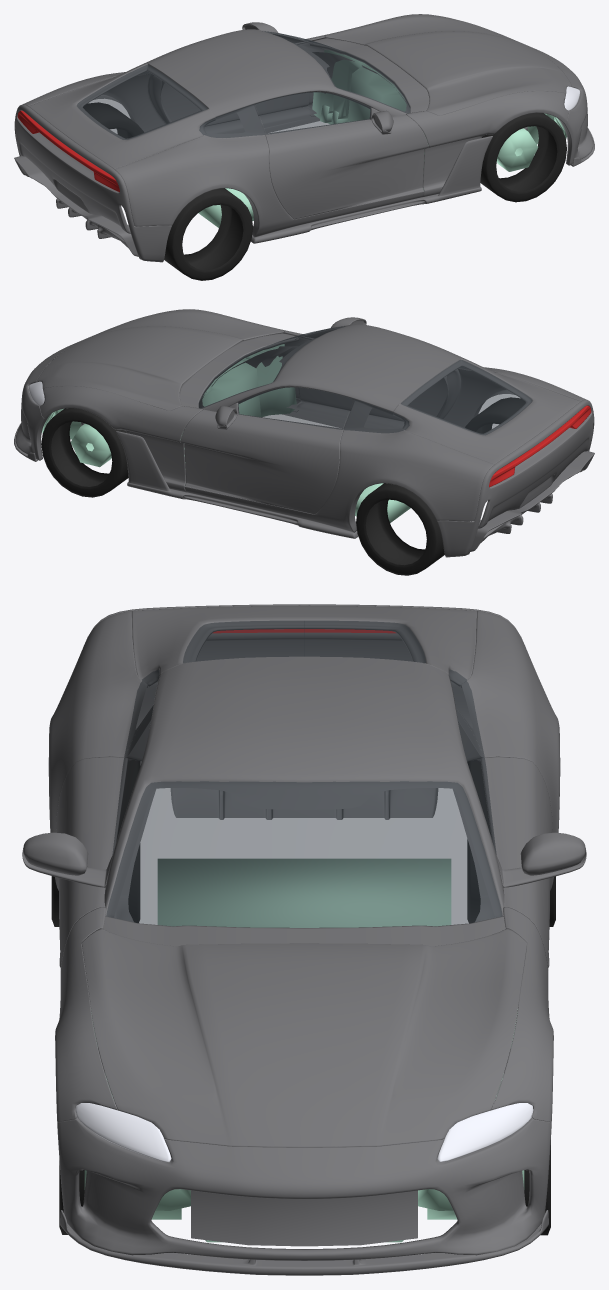
Rendered from coupe.glb.
3 views of the same model, one above another, from view 1: azimuth 30°, elevation 25°; view 2: azimuth 150°, elevation 25°; view 3: azimuth 270°, elevation 25° (orthographic). The views are drawn at different scales.
Visible parts, largest first — view 1: body.001|car-body, hood.001, door.r.001, trunk.001|car-body, rear-bumper.001, side-fender.r.001, glass-rear.001, tyre_rr_tyre, tyre_fr_tyre, zone_engine_5, window-front.r.001, glass-windshield.001 (+11 smaller); view 2: body.001|car-body, hood.001, door.l.001, trunk.001|car-body, rear-bumper.001, side-fender.l.001, glass-rear.001, tyre_rl_tyre, tyre_fl_tyre, window-front.l.001, zone_engine_5, glass-windshield.001 (+11 smaller); view 3: hood.001, body.001|car-body, glass-windshield.001, front-bumper.001, zone_fuel, trunk.001|car-body, front-grille-texture.001, glass-rear.001, door.l.001, door.r.001, side-fender.l.001, side-fender.r.001 (+17 smaller).
Boxes of the visible parts, box(x1,y1,x2,y2) form: body.001|car-body: box(23, 29, 527, 237); hood.001: box(325, 14, 571, 115); door.r.001: box(265, 114, 428, 219); trunk.001|car-body: box(28, 63, 215, 169); rear-bumper.001: box(14, 104, 171, 262); side-fender.r.001: box(406, 91, 568, 197); glass-rear.001: box(77, 64, 207, 139); tyre_rr_tyre: box(164, 188, 252, 280); tyre_fr_tyre: box(480, 113, 566, 202); zone_engine_5: box(312, 50, 566, 190); window-front.r.001: box(255, 92, 370, 134); glass-windshield.001: box(262, 31, 410, 113); body.001|car-body: box(81, 324, 585, 532); hood.001: box(37, 309, 283, 410); door.l.001: box(180, 409, 343, 514); trunk.001|car-body: box(393, 358, 580, 464); rear-bumper.001: box(437, 399, 594, 557); side-fender.l.001: box(40, 386, 202, 492); glass-rear.001: box(401, 360, 531, 435); tyre_rl_tyre: box(356, 483, 444, 575); tyre_fl_tyre: box(41, 408, 128, 497); window-front.l.001: box(238, 387, 353, 429); zone_engine_5: box(42, 344, 296, 469); glass-windshield.001: box(198, 326, 345, 408); hood.001: box(81, 928, 527, 1147); body.001|car-body: box(48, 611, 560, 922); glass-windshield.001: box(106, 781, 502, 927); front-bumper.001: box(57, 1117, 551, 1260); zone_fuel: box(157, 858, 451, 927); trunk.001|car-body: box(132, 605, 476, 686); front-grille-texture.001: box(191, 1190, 417, 1246); glass-rear.001: box(183, 620, 425, 663); door.l.001: box(480, 757, 552, 969); door.r.001: box(56, 757, 128, 969); side-fender.l.001: box(491, 907, 553, 1122); side-fender.r.001: box(55, 907, 117, 1122).
Size of the model in its own units: 4.73 by 1.35 by 2.27.
